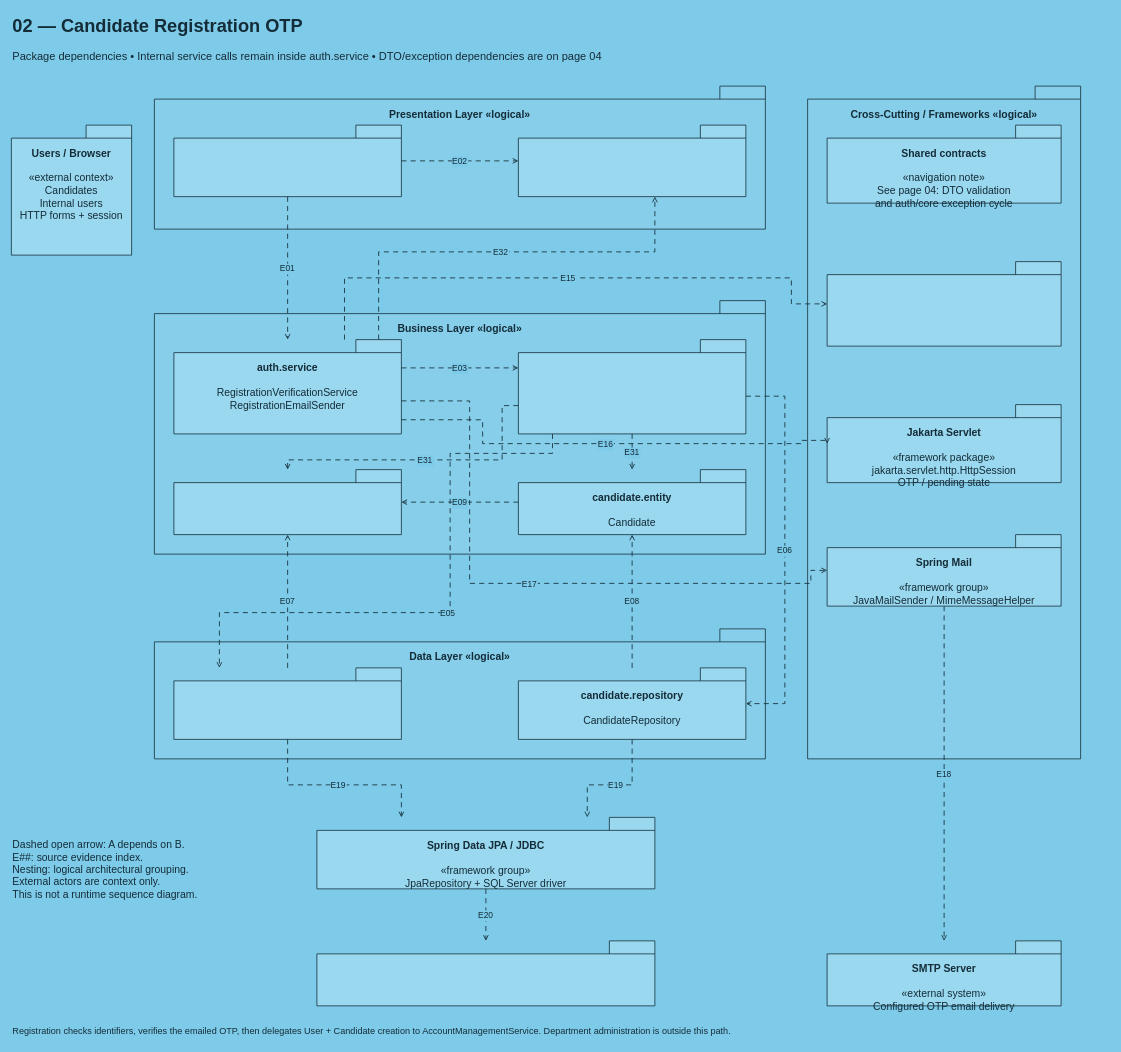
The diagram is 1121 pixels wide and 1052 high, and some of its shapes have lost their labels. Here are the shapes that lost their labels. From the top down, the centre of each, then its label:
At (287,160): "auth.controller RegistrationController /register / /register/otp/**".
At (632,160): "templates/auth/ «resource folder» Forms + email/ templates".
At (943,303): "Spring Security «framework group» PasswordEncoder".
At (632,386): "user.service AccountManagementService Registration methods only".
At (287,502): "user.entity User / Role".
At (287,703): "user.repository UserRepository / RoleRepository".
At (485,973): "SQL Server Database «external system» Configured data source".
